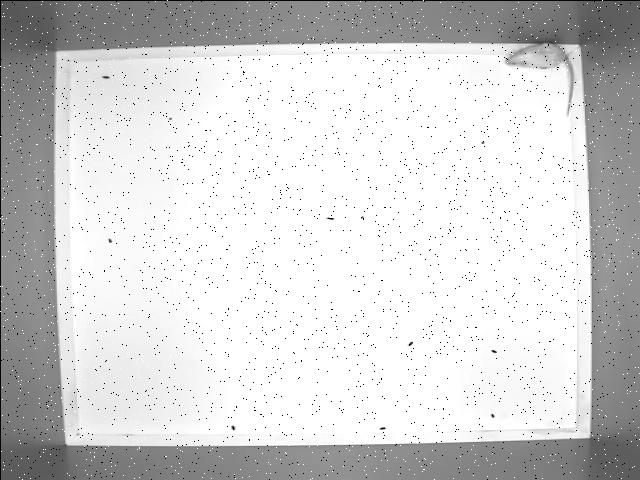Tikus: (500, 42, 580, 122)
